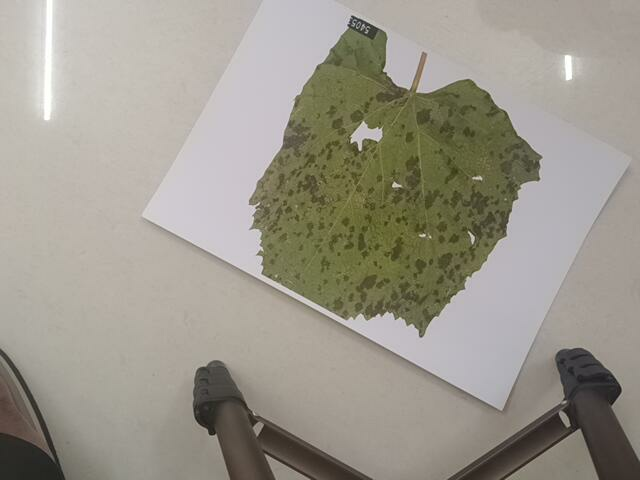Grape_Blight_Leaf: (254, 12, 525, 331)
